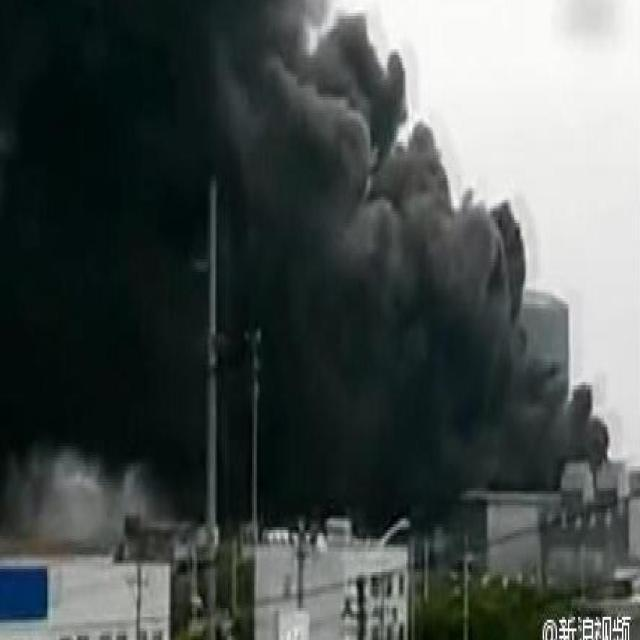Smoke: (0, 0, 618, 541)
